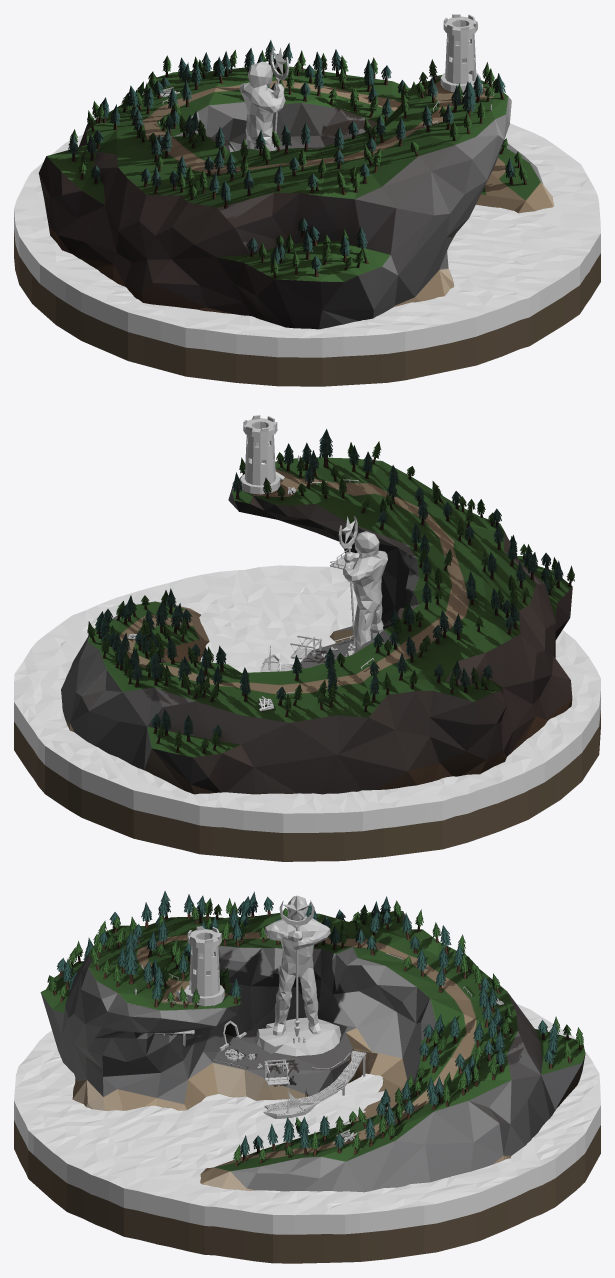
The model's file is FantasyIslandChallenge.fbx.
3 views of the same model, one above another, from view 1: azimuth 30°, elevation 25°; view 2: azimuth 150°, elevation 25°; view 3: azimuth 270°, elevation 25° (orthographic).
Visible parts, largest first — view 1: PartB, PartA, PartE, PartD, PartC, PartF; view 2: PartA, PartE, PartB, PartD, PartC, PartF; view 3: PartA, PartB, PartE, PartD, PartC, PartF, PartG.
Boxes of the visible parts, x1,y1,x2,y2 form: PartB: (14, 75, 600, 386); PartA: (14, 66, 573, 353); PartE: (14, 123, 600, 357); PartD: (68, 40, 527, 278); PartC: (239, 47, 491, 151); PartF: (157, 14, 494, 127); PartA: (61, 551, 572, 827); PartE: (14, 565, 600, 832); PartB: (14, 457, 600, 861); PartD: (87, 429, 574, 753); PartC: (298, 455, 387, 656); PartF: (127, 415, 374, 711); PartA: (56, 911, 585, 1231); PartB: (14, 924, 600, 1263); PartE: (14, 1003, 600, 1234); PartD: (47, 891, 583, 1166); PartC: (134, 895, 341, 1056); PartF: (141, 926, 503, 1142); PartG: (263, 1050, 366, 1124).
Size of the model in its own units: 3838 by 1849 by 3847.
